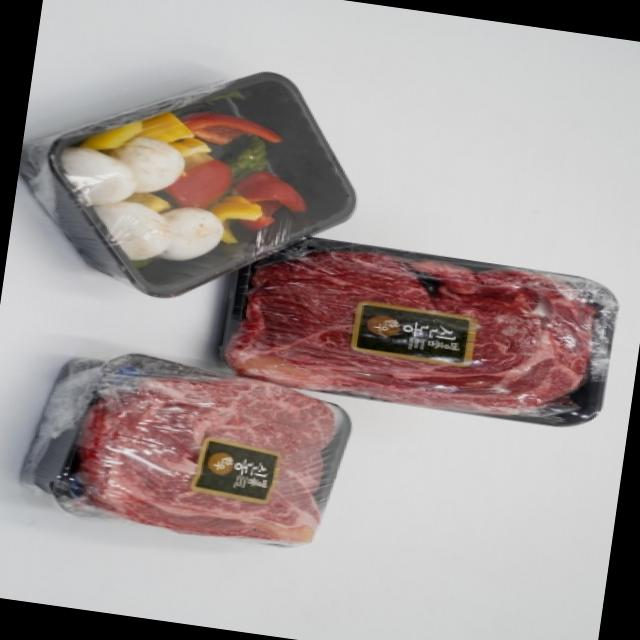beef: (256, 259, 584, 425), (72, 368, 328, 538)
